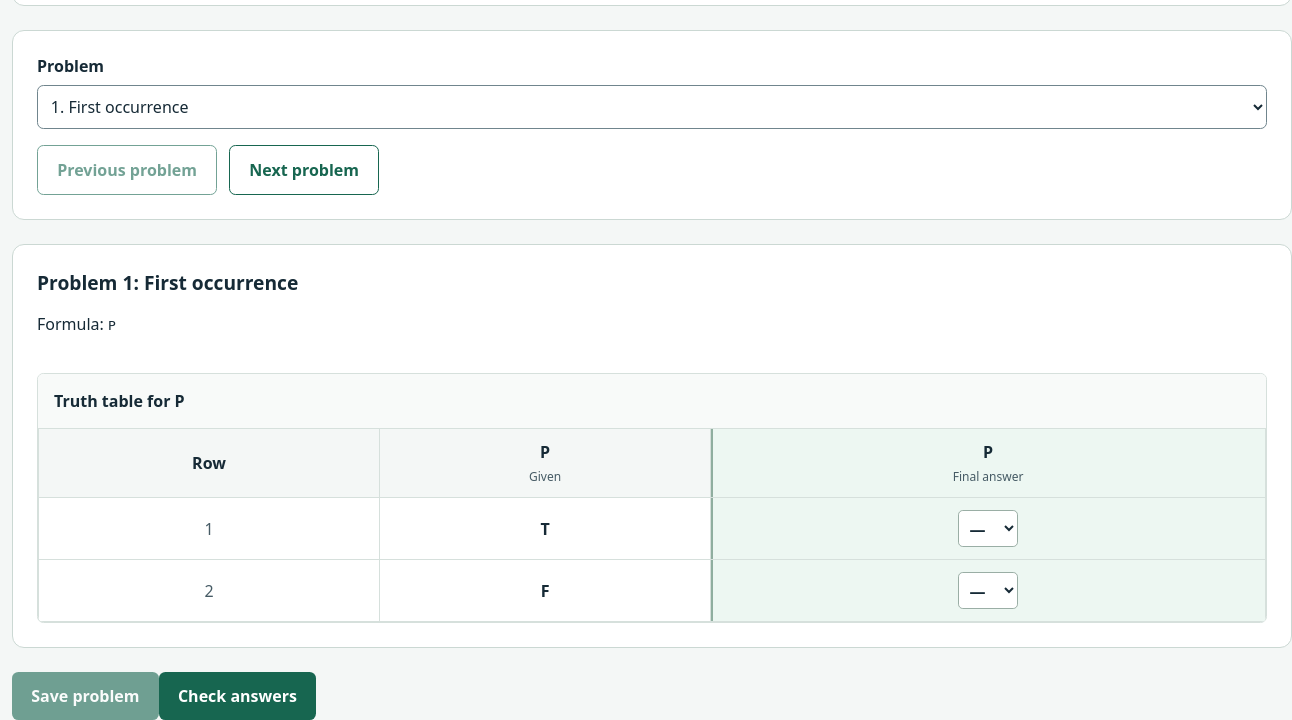
it: editing cancels a pending check and late feedback cannot overwrite the edited table
(page scrolled)
Expected: the heading "Problem 1: First occurrence" is shown, [37, 269, 298, 296]
Select "F" in the dropdown named "Row 1, P=T: P" at (988, 529), box [958, 510, 1018, 547]
(page scrolled)
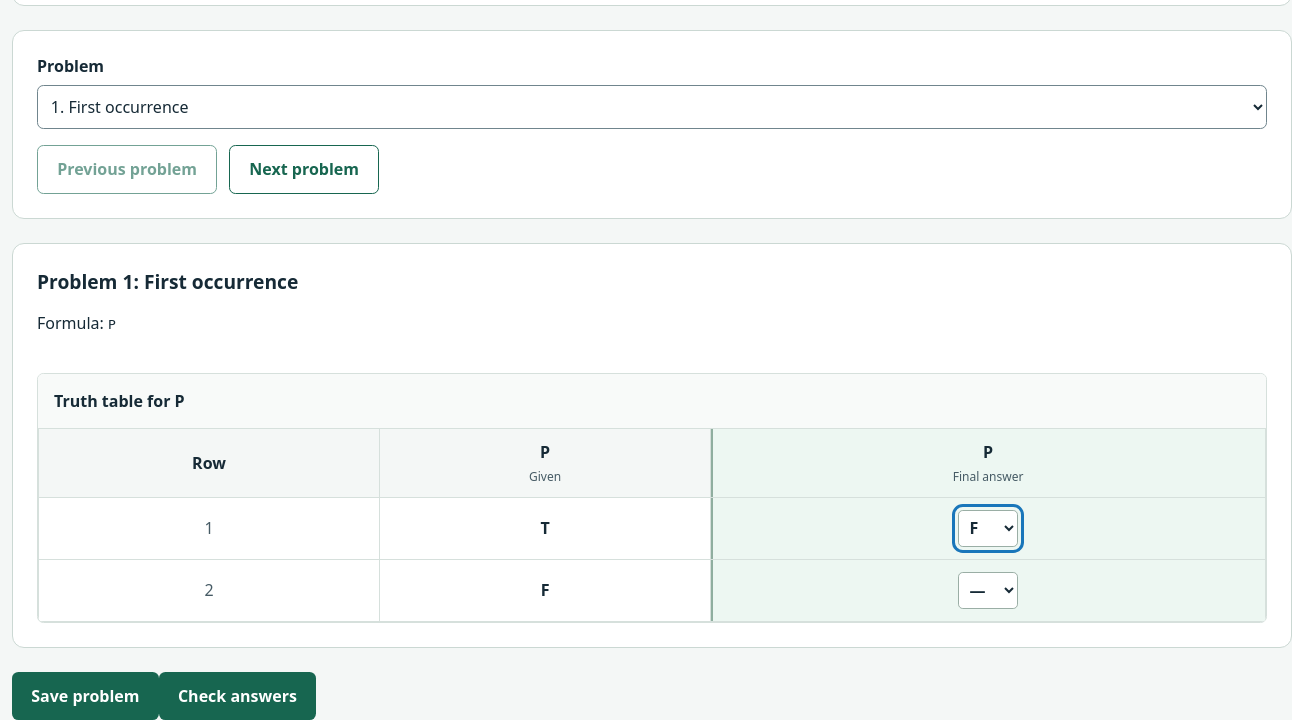
Click the button "Check answers" at (237, 696), box [159, 672, 316, 719]
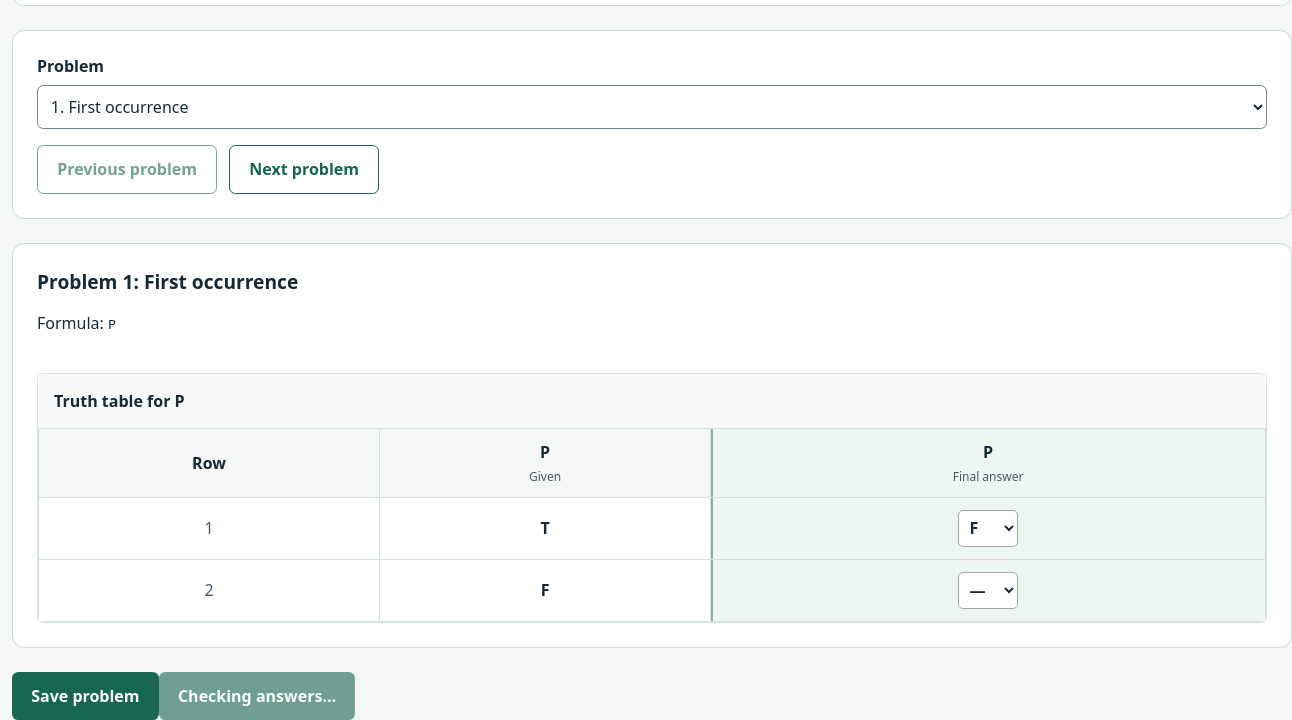
Select "T" in the dropdown named "Row 1, P=T: P" at (988, 528), box [958, 510, 1018, 547]
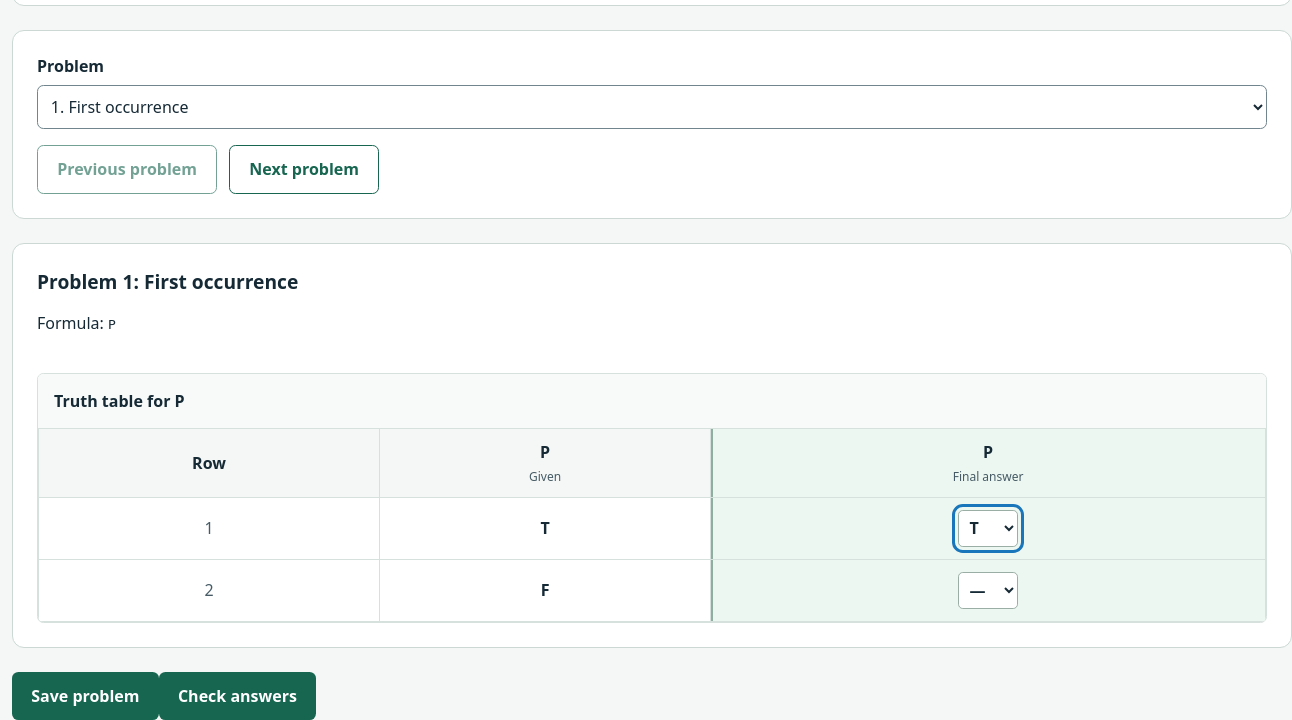
Now the button "Check answers" is enabled, box [159, 672, 316, 719]
